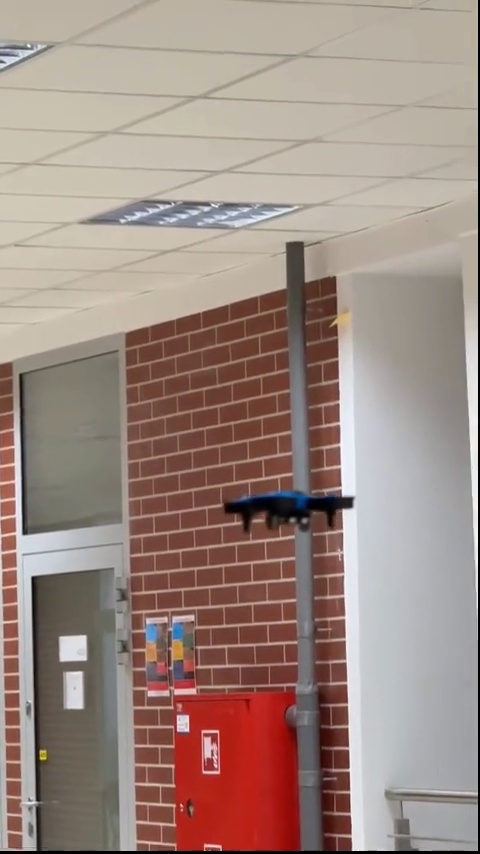drone: (223, 492, 357, 530)
